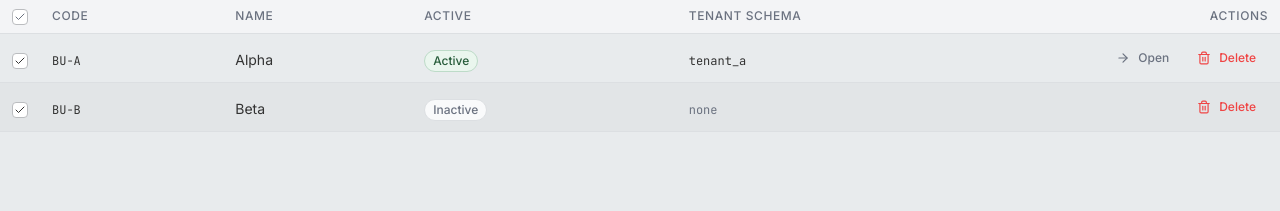
Test: select-all checks every business unit
What coordinates should you click on to do the following:
click the checkbox named "Select all"
I would click on:
 (20, 17)
Its box is [12, 9, 28, 25].
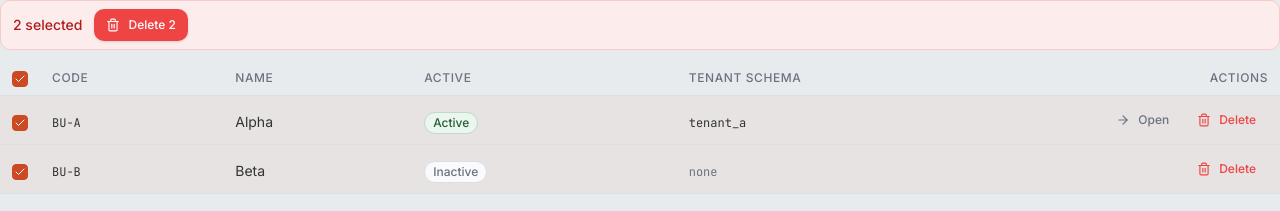
Check: the button "Delete 2" is shown, box [94, 9, 188, 41]
